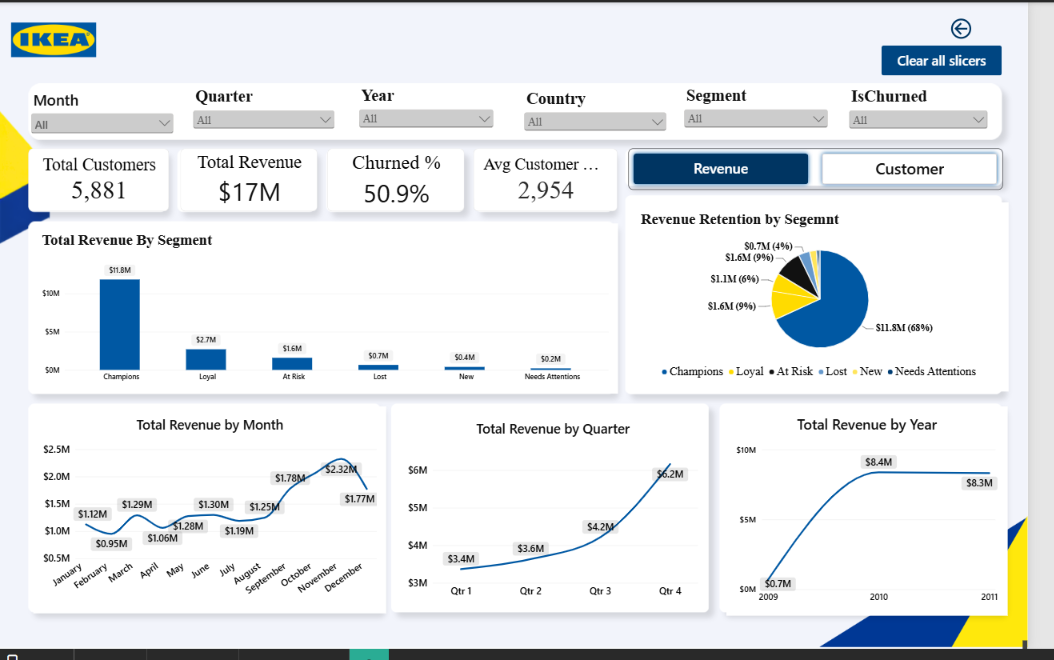

This screenshot's page, from the dashboard's own definition file:
{"tool":"powerbi","page":{"name":"Overview","canvas":[1750,1100],"ordinal":1},"visuals":[{"type":"cardVisual","fields":{"Data":["Sheet1.Total Customers"]},"box":[51,249,239.2,107.8],"z":0},{"type":"pieChart","title":"Revenue Retention by Segemnt","fields":{"Category":["Sheet1.Segment"],"Series":["Sheet1.IsChurned"],"Y":["Sheet1.Total Revenue"]},"box":[1076.7,339.4,641.5,322],"z":0,"group":"g1"},{"type":"cardVisual","fields":{"Data":["Sheet1.Total Revenue"]},"box":[309.5,248.3,233.3,107.8],"z":1000},{"type":"columnChart","title":"Total Revenue By Segment","fields":{"Category":["Sheet1.Segment"],"Y":["Sheet1.Total Revenue"]},"box":[58.5,375,995.7,289.8],"z":1000,"group":"g1"},{"type":"cardVisual","fields":{"Data":["Sheet1.Churned %"]},"box":[558.8,249,233.3,107.8],"z":2000},{"type":"lineChart","title":"Total Revenue by Year","fields":{"Category":["Sheet1.InvoiceMonth.Variation.Date Hierarchy.Year"],"Y":["Sheet1.Total Revenue"]},"box":[1239,685.8,478,355.6],"z":2000,"group":"g1"},{"type":"cardVisual","fields":{"Data":["Sheet1.Avg Customer Value"]},"box":[807.8,249,245.1,107.8],"z":3000},{"type":"lineChart","title":"Total Revenue by Quarter","fields":{"Category":["Sheet1.InvoiceMonth.Variation.Date Hierarchy.Quarter"],"Y":["Sheet1.Total Revenue"]},"box":[681.8,693.7,525.6,339.8],"z":3000,"group":"g1"},{"type":"lineChart","title":"Total Revenue by Month","fields":{"Category":["Sheet1.InvoiceMonth.Variation.Date Hierarchy.Month"],"Y":["Sheet1.Total Revenue"]},"box":[60.7,685.7,600.3,352.2],"z":4000,"group":"g1"},{"type":"slicer","fields":{"Values":["Sheet1.InvoiceDate.Variation.Date Hierarchy.Quarter"]},"box":[326.5,144.6,250,103.7],"z":5000},{"type":"slicer","fields":{"Values":["Sheet1.InvoiceDate.Variation.Date Hierarchy.Year"]},"box":[608.8,142.9,238.1,93.5],"z":6000},{"type":"slicer","fields":{"Values":["Sheet1.Country"]},"box":[889.5,148,251.7,85],"z":7000},{"type":"slicer","fields":{"Values":["Sheet1.Segment"]},"box":[1161.6,142.9,253.4,96.9],"z":8000},{"type":"slicer","fields":{"Values":["Sheet1.IsChurned"]},"box":[1442.2,144.6,244.9,83.3],"z":9000},{"type":"group","id":"g1","title":"Revenue","box":[58.5,339.4,1659.7,702],"z":11000},{"type":"bookmarkNavigator","box":[1070.7,248.8,636.6,70.7],"z":12000},{"type":"image","box":[0,0,187.8,126.8],"z":13000},{"type":"textbox","box":[2,708,600,352],"z":14000},{"type":"textbox","box":[621,708,529,352],"z":15000},{"type":"textbox","box":[1181,708,478,352],"z":16000},{"type":"textbox","box":[100,100,300,300],"z":17000},{"type":"textbox","box":[100,100,300,300],"z":18000},{"type":"textbox","box":[1450.7,1085,299.3,15.3],"z":19000},{"type":"actionButton","box":[1575.6,9.8,124.4,68.3],"z":22000},{"type":"actionButton","box":[1502.2,73.3,204.9,51.2],"z":23000},{"type":"slicer","fields":{"Values":["Sheet1.InvoiceMonth.Variation.Date Hierarchy.Month"]},"box":[51,148,251.7,88.4],"z":23001}]}

Visuals, with their boxes in screenshot pixels (x1, y1, x2, y2), scaled from the page's 1750x1100 canvas onto the 1054x660 screenshot:
cardVisual - Sheet1.Total Customers: [31, 149, 175, 214]
"Revenue Retention by Segemnt" pieChart: [648, 204, 1035, 397]
cardVisual - Sheet1.Total Revenue: [186, 149, 327, 214]
"Total Revenue By Segment" columnChart: [35, 225, 635, 399]
cardVisual - Sheet1.Churned %: [337, 149, 477, 214]
"Total Revenue by Year" lineChart: [746, 411, 1034, 625]
cardVisual - Sheet1.Avg Customer Value: [487, 149, 634, 214]
"Total Revenue by Quarter" lineChart: [411, 416, 727, 620]
"Total Revenue by Month" lineChart: [37, 411, 398, 623]
slicer - Sheet1.InvoiceDate.Variation.Date Hierarchy.Quarter: [197, 87, 347, 149]
slicer - Sheet1.InvoiceDate.Variation.Date Hierarchy.Year: [367, 86, 510, 142]
slicer - Sheet1.Country: [536, 89, 687, 140]
slicer - Sheet1.Segment: [700, 86, 852, 144]
slicer - Sheet1.IsChurned: [869, 87, 1016, 137]
"Revenue" group: [35, 204, 1035, 625]
bookmarkNavigator: [645, 149, 1028, 192]
image: [0, 0, 113, 76]
textbox: [1, 425, 363, 636]
textbox: [374, 425, 693, 636]
textbox: [711, 425, 999, 636]
textbox: [60, 60, 241, 240]
textbox: [60, 60, 241, 240]
textbox: [874, 651, 1053, 659]
actionButton: [949, 6, 1024, 47]
actionButton: [905, 44, 1028, 75]
slicer - Sheet1.InvoiceMonth.Variation.Date Hierarchy.Month: [31, 89, 182, 142]
